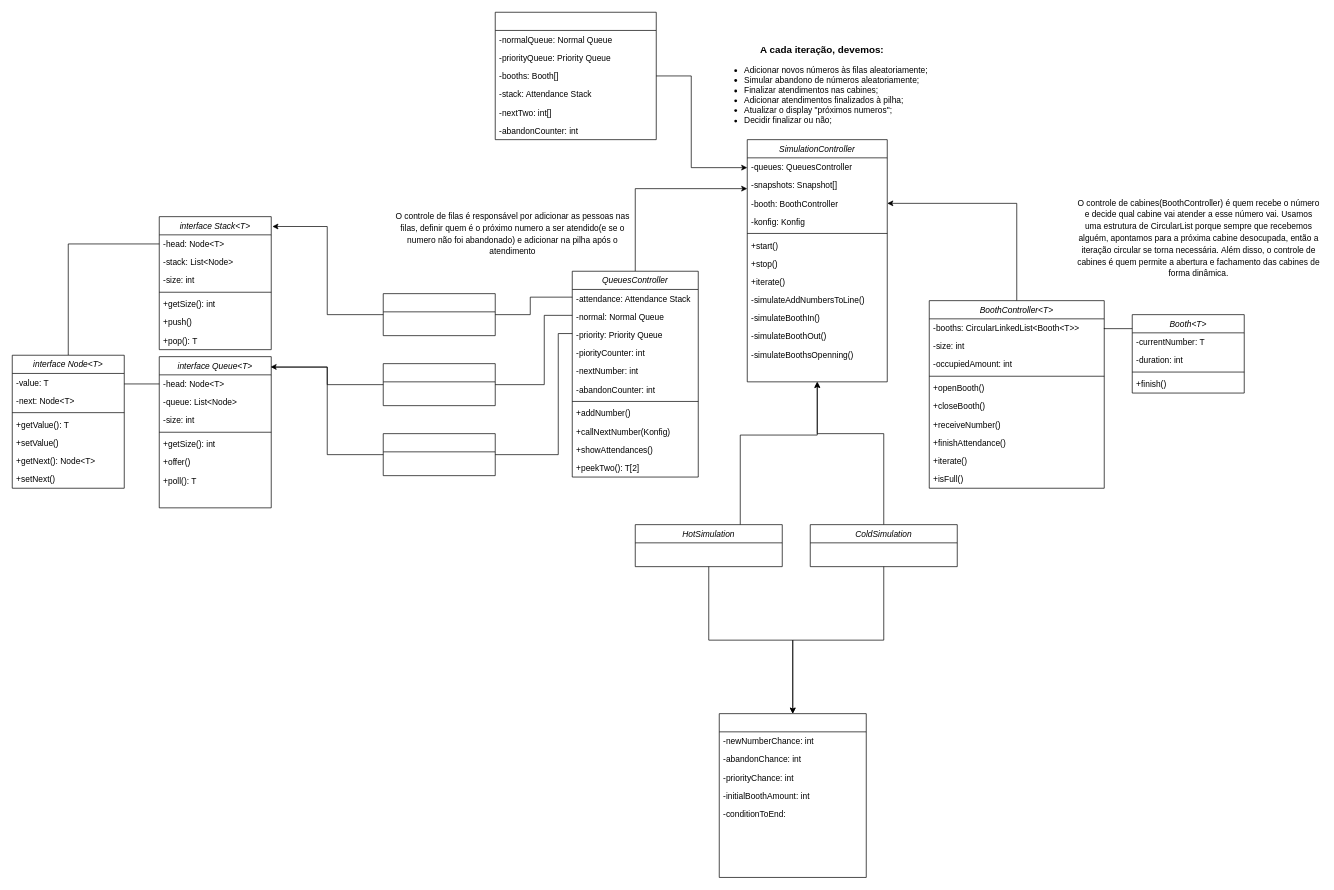
Image size: 1334x890. Some labels were removed from this diagram. The box of each missing label's shape, as (x1, y1, x2, y2) in pixels:
Attendance Stack: (383, 293, 495, 336)
interface Konfig: (719, 713, 866, 877)
Normal Queue: (383, 363, 495, 406)
Priority Queue: (383, 433, 495, 476)
Snapshot: (495, 12, 656, 140)
